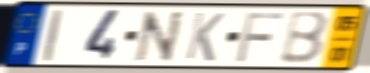4: (81, 7, 121, 65)
B: (278, 10, 331, 66)
F: (234, 11, 287, 64)
I: (41, 7, 65, 64)
K: (183, 10, 227, 64)
N: (132, 9, 187, 64)
